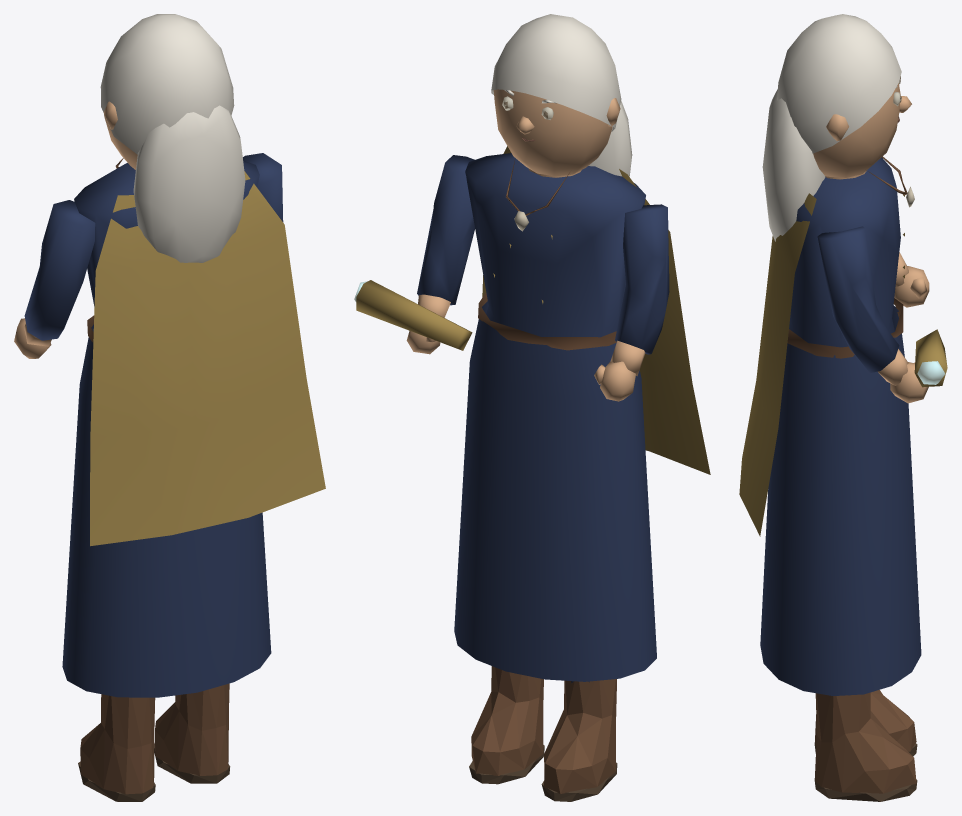
File: SM_NPC_ESTRELLA_MEDIA.glb
The picture shows the model from 3 angles, left to right: view 1: azimuth 30°, elevation 25°; view 2: azimuth 150°, elevation 25°; view 3: azimuth 270°, elevation 25°; orthographic projection. The views are drawn at different scales.
Visible parts, largest first — view 1: SM_NPC_ESTRELLA_BODY, SM_NPC_ESTRELLA_HEAD, SM_NPC_ESTRELLA_ARM_L, SM_NPC_ESTRELLA_ARM_R; view 2: SM_NPC_ESTRELLA_BODY, SM_NPC_ESTRELLA_HEAD, SM_NPC_ESTRELLA_ARM_R, SM_NPC_ESTRELLA_ARM_L; view 3: SM_NPC_ESTRELLA_BODY, SM_NPC_ESTRELLA_HEAD, SM_NPC_ESTRELLA_ARM_R, SM_NPC_ESTRELLA_ARM_L.
Boxes of the visible parts, <box> form: SM_NPC_ESTRELLA_BODY: <box>62,158,325,801</box>; SM_NPC_ESTRELLA_HEAD: <box>100,14,245,262</box>; SM_NPC_ESTRELLA_ARM_L: <box>14,200,95,358</box>; SM_NPC_ESTRELLA_ARM_R: <box>243,153,283,222</box>; SM_NPC_ESTRELLA_BODY: <box>454,146,710,801</box>; SM_NPC_ESTRELLA_HEAD: <box>491,14,632,176</box>; SM_NPC_ESTRELLA_ARM_R: <box>354,155,474,354</box>; SM_NPC_ESTRELLA_ARM_L: <box>594,204,669,401</box>; SM_NPC_ESTRELLA_BODY: <box>739,156,921,801</box>; SM_NPC_ESTRELLA_HEAD: <box>762,14,911,241</box>; SM_NPC_ESTRELLA_ARM_R: <box>817,226,947,403</box>; SM_NPC_ESTRELLA_ARM_L: <box>894,252,929,307</box>.
Size of the model in its own units: 0.6937 by 1.81 by 0.4544.
